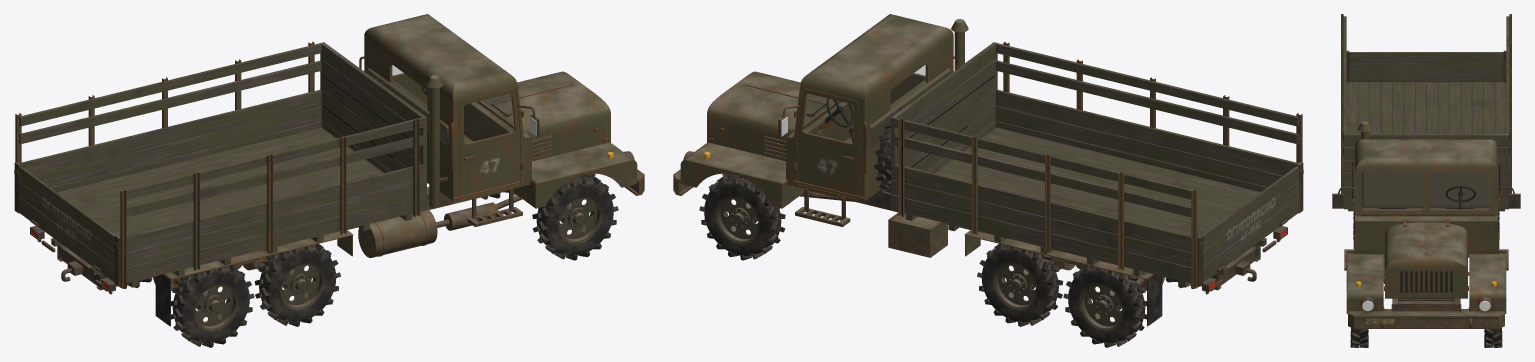
The picture shows the model from 3 angles, left to right: view 1: azimuth 30°, elevation 25°; view 2: azimuth 150°, elevation 25°; view 3: azimuth 270°, elevation 25°; orthographic projection. The views are drawn at different scales.
Visible parts, largest first — view 1: M3S, Hood, Wheel_RR1, Wheel_RR2, Wheel_FR, Glass; view 2: M3S, Hood, Wheel_RL1, Wheel_RL2, Wheel_FL, Glass; view 3: M3S, Hood, Glass, Wheel_FL, Wheel_FR.
Boxes of the visible parts, x1,y1,x2,y2 form: M3S: [14, 14, 644, 326]; Hood: [482, 71, 610, 161]; Wheel_RR1: [254, 244, 340, 326]; Wheel_RR2: [171, 265, 254, 347]; Wheel_FR: [532, 174, 618, 260]; Glass: [391, 65, 536, 143]; M3S: [673, 14, 1303, 326]; Hood: [707, 71, 833, 161]; Wheel_RL1: [977, 244, 1063, 326]; Wheel_RL2: [1063, 265, 1146, 347]; Wheel_FL: [699, 174, 785, 260]; Glass: [781, 65, 926, 143]; M3S: [1332, 14, 1520, 328]; Hood: [1383, 220, 1469, 298]; Glass: [1363, 171, 1489, 209]; Wheel_FL: [1484, 327, 1502, 347]; Wheel_FR: [1350, 327, 1368, 347].
Size of the model in its own units: 7.1 by 2.6 by 2.64.
5 materials, 3 textured.
